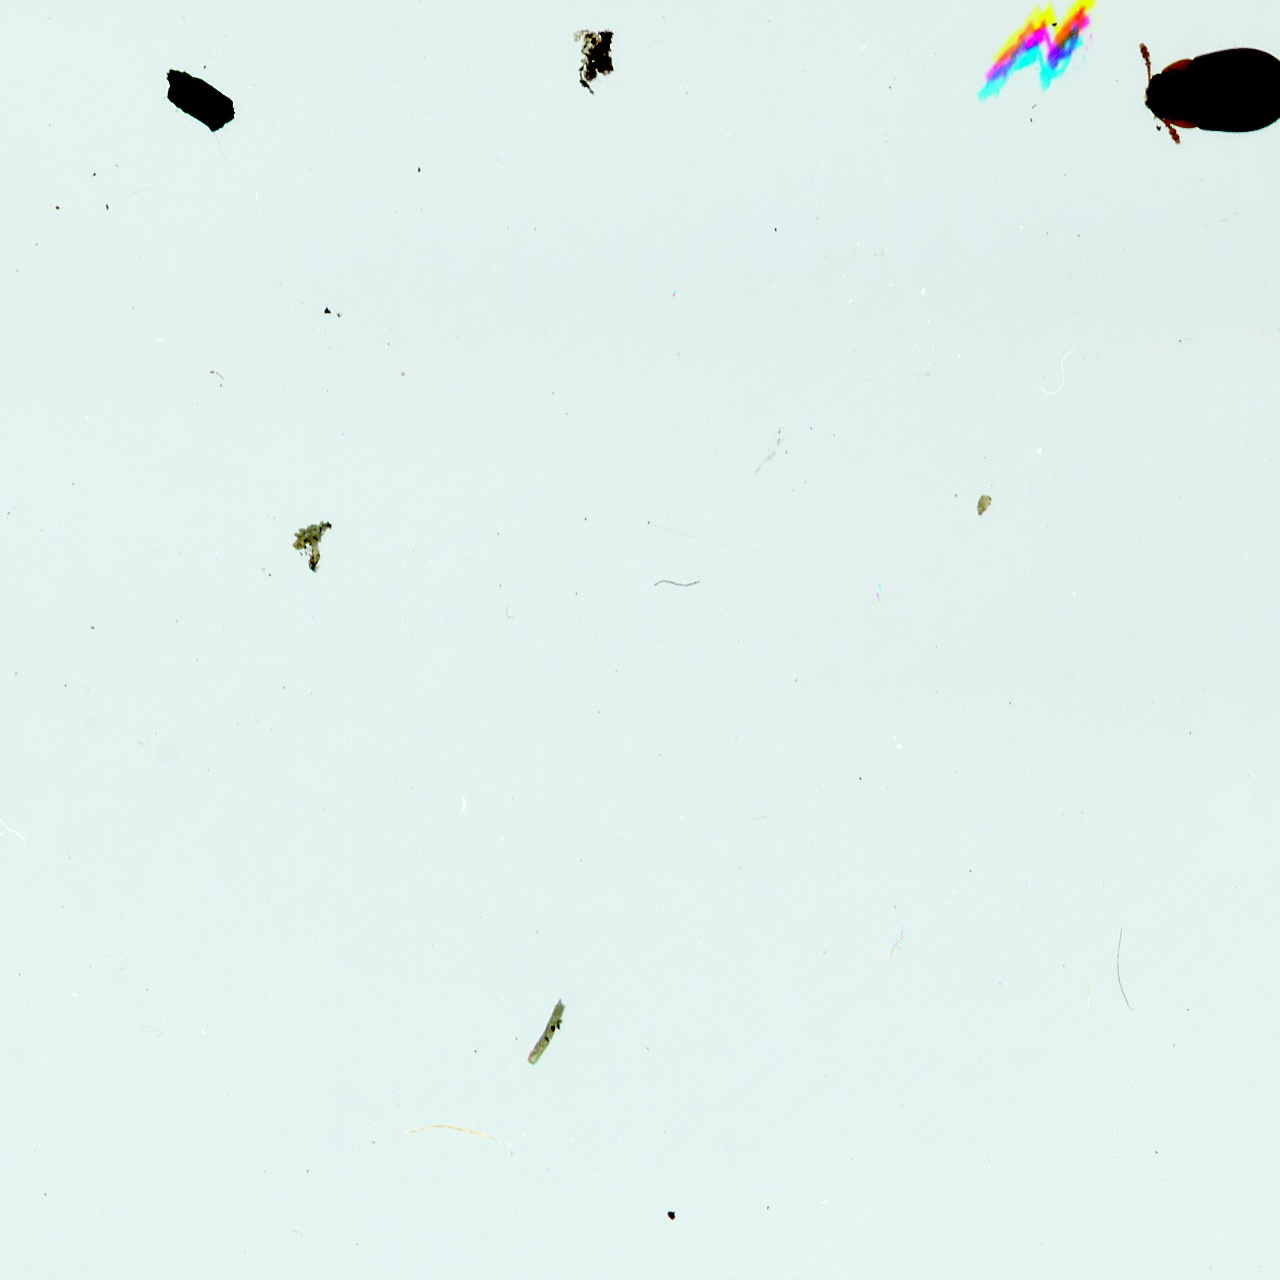arthropod: (1131, 30, 1280, 159)
